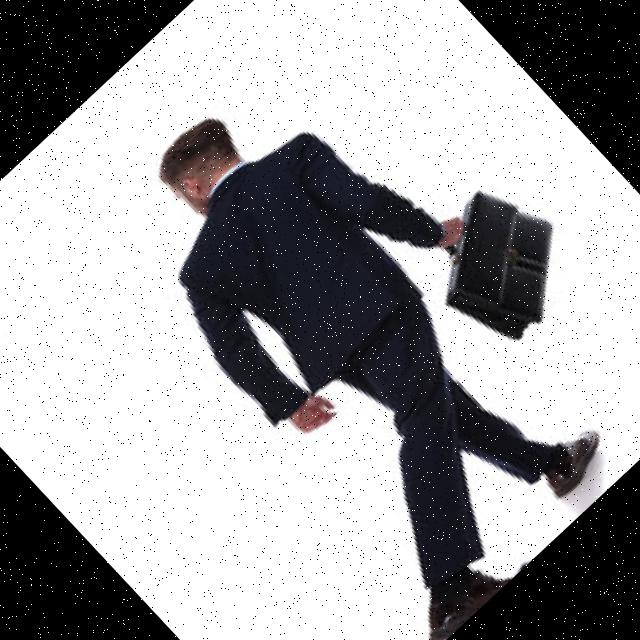Person: (58, 0, 640, 640)
